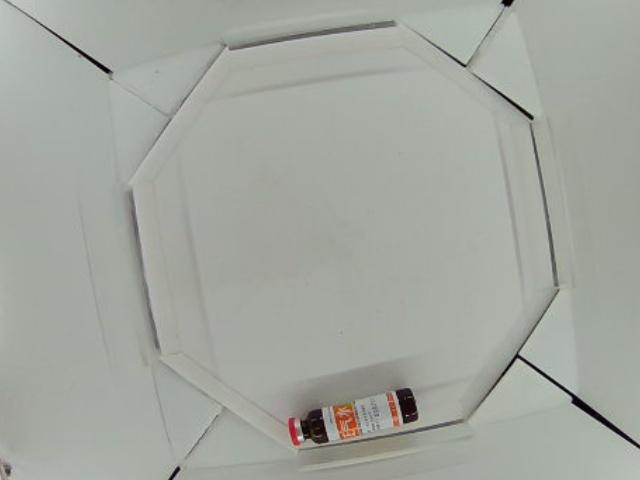Medicine: (289, 388, 421, 446)
